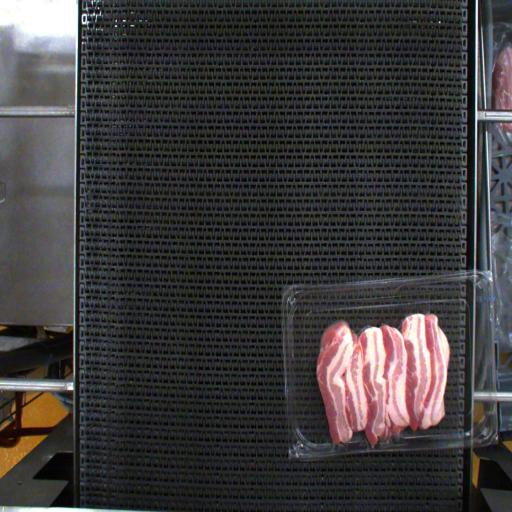packaging-error: (374, 426, 410, 450), (332, 436, 355, 459)
